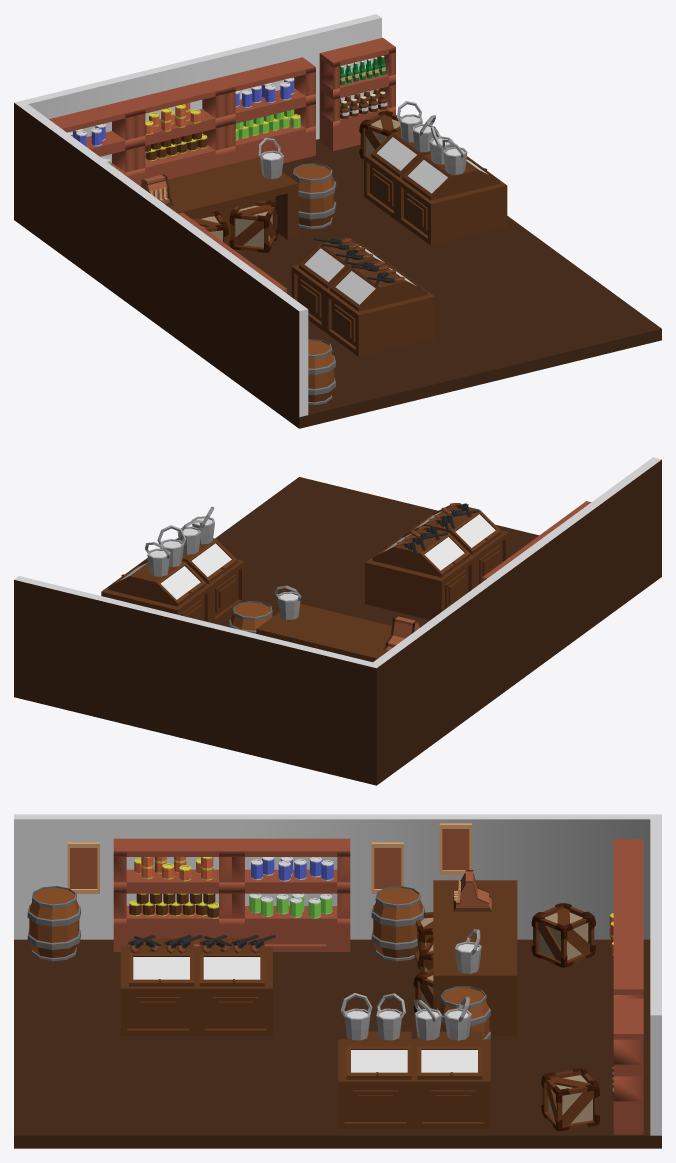
Rendered from inside_store_v2.fbx.
3 renders of one model, top to bottom at view 1: azimuth 30°, elevation 25°; view 2: azimuth 150°, elevation 25°; view 3: azimuth 270°, elevation 25°, orthographic. The views are drawn at different scales.
Parts seen in each view (by area): view 1: Cube.001, Cube.004, Cube, Cube.002, Cube.012, Cube.003, Cylinder.059, Cube.024, Cylinder.061, Cube.019, Cylinder.053, Cylinder.038 (+5 smaller); view 2: Cube.001, Cube, Cube.002, Cube.012, Cylinder.059, Cylinder.054, Cylinder.055, Cube.005, Cylinder.056, Cube.013, Cylinder.057, Cylinder.058; view 3: Cube.001, Cube.013, Cube.002, Cube, Cube.012, Cube.004, Cube.003, Cylinder.061, Cube.018, Cylinder.060, Cube.019, Cylinder.015 (+12 smaller).
Part boxes in pixels (x1,y1,x2,y2): Cube.001: (14, 14, 661, 428); Cube.004: (49, 57, 315, 186); Cube: (291, 237, 434, 356); Cube.002: (364, 130, 507, 245); Cube.012: (140, 157, 298, 242); Cube.003: (319, 37, 395, 151); Cylinder.059: (292, 163, 336, 229); Cube.024: (229, 200, 278, 252); Cylinder.061: (308, 339, 335, 405); Cube.019: (359, 111, 400, 158); Cylinder.053: (235, 109, 300, 140); Cylinder.038: (145, 132, 207, 161); Cube.001: (14, 457, 661, 785); Cube: (365, 505, 508, 619); Cube.002: (101, 538, 244, 623); Cube.012: (256, 603, 391, 662); Cylinder.059: (229, 601, 272, 633); Cylinder.054: (274, 585, 301, 619); Cylinder.055: (145, 542, 170, 576); Cube.005: (383, 616, 419, 650); Cylinder.056: (157, 525, 185, 567); Cube.013: (482, 501, 591, 581); Cylinder.057: (177, 520, 203, 554); Cylinder.058: (191, 506, 214, 544); Cube.001: (14, 814, 661, 1148); Cube.013: (113, 838, 350, 951); Cube.002: (338, 1031, 490, 1128); Cube: (120, 938, 272, 1035); Cube.012: (433, 880, 517, 1036); Cube.004: (613, 839, 643, 998); Cube.003: (613, 998, 643, 1134); Cylinder.061: (27, 886, 80, 961); Cube.018: (531, 903, 595, 967); Cylinder.060: (371, 886, 424, 961); Cube.019: (541, 1068, 599, 1130); Cylinder.015: (129, 893, 218, 918).
Size of the model in its own units: 2946 by 911 by 4013.
